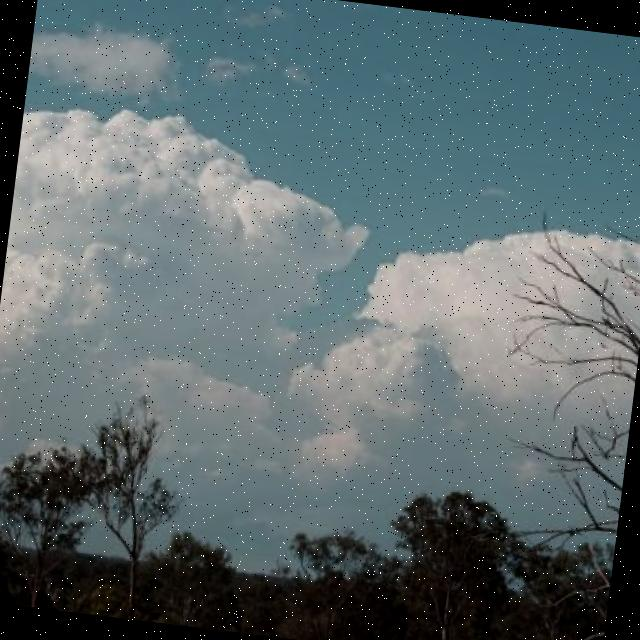Cb: (2, 9, 499, 416)
